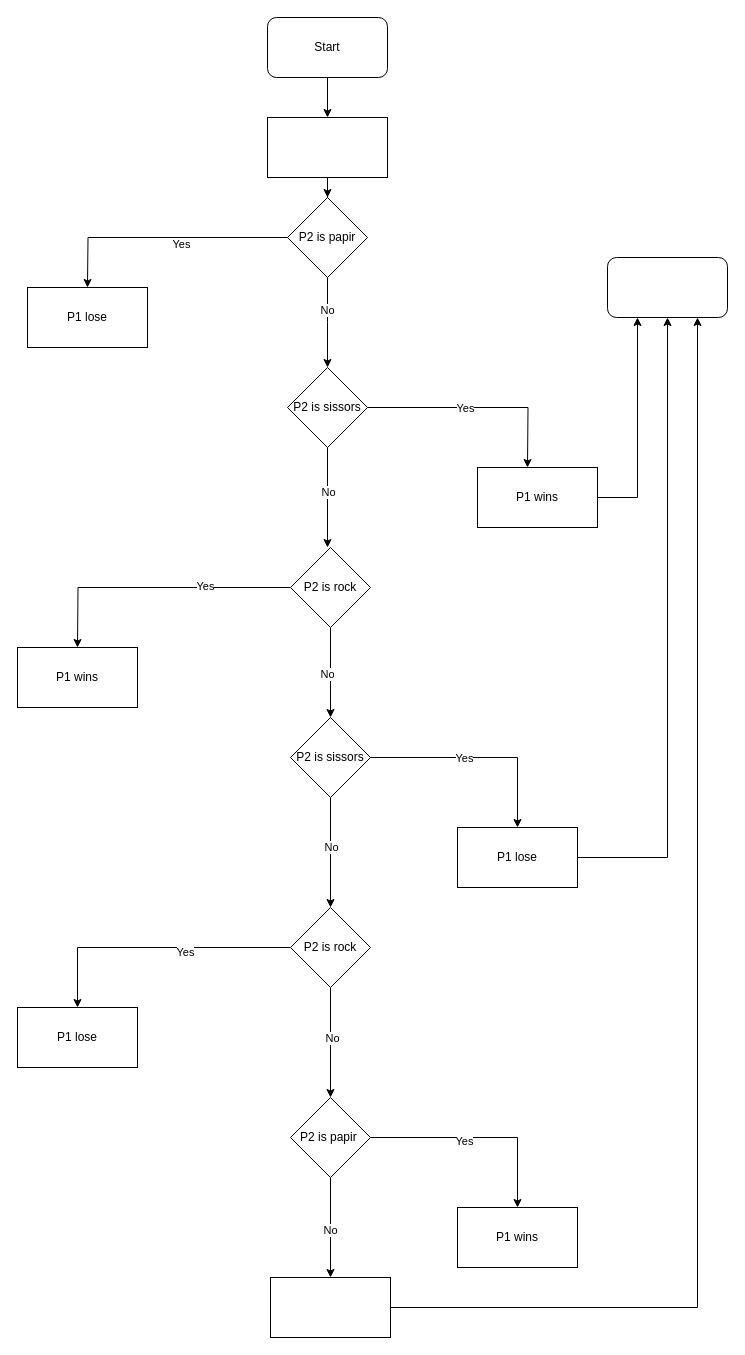
The diagram is 745 pixels wide and 1355 high, and some of its shapes have lost their labels. Here are the shapes that lost their labels. From the top down, the box of each, then its label:
(266, 116, 388, 178): P1, P2
(606, 256, 728, 318): End
(270, 1276, 390, 1338): Tie
